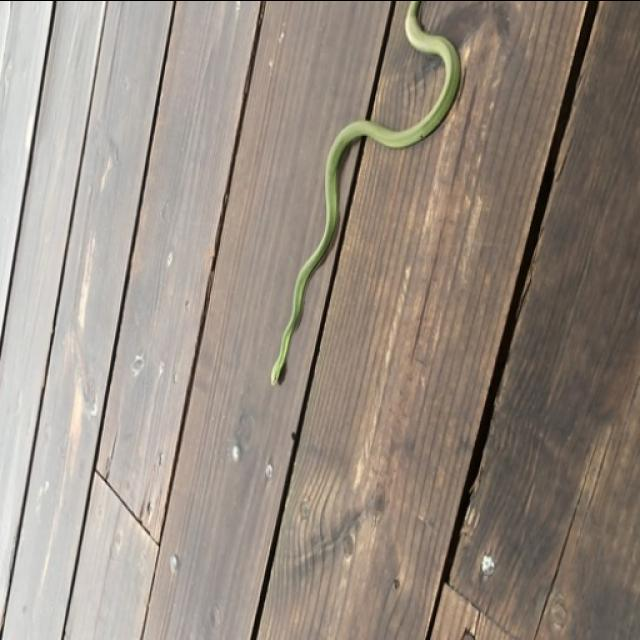snake: (238, 0, 490, 399)
